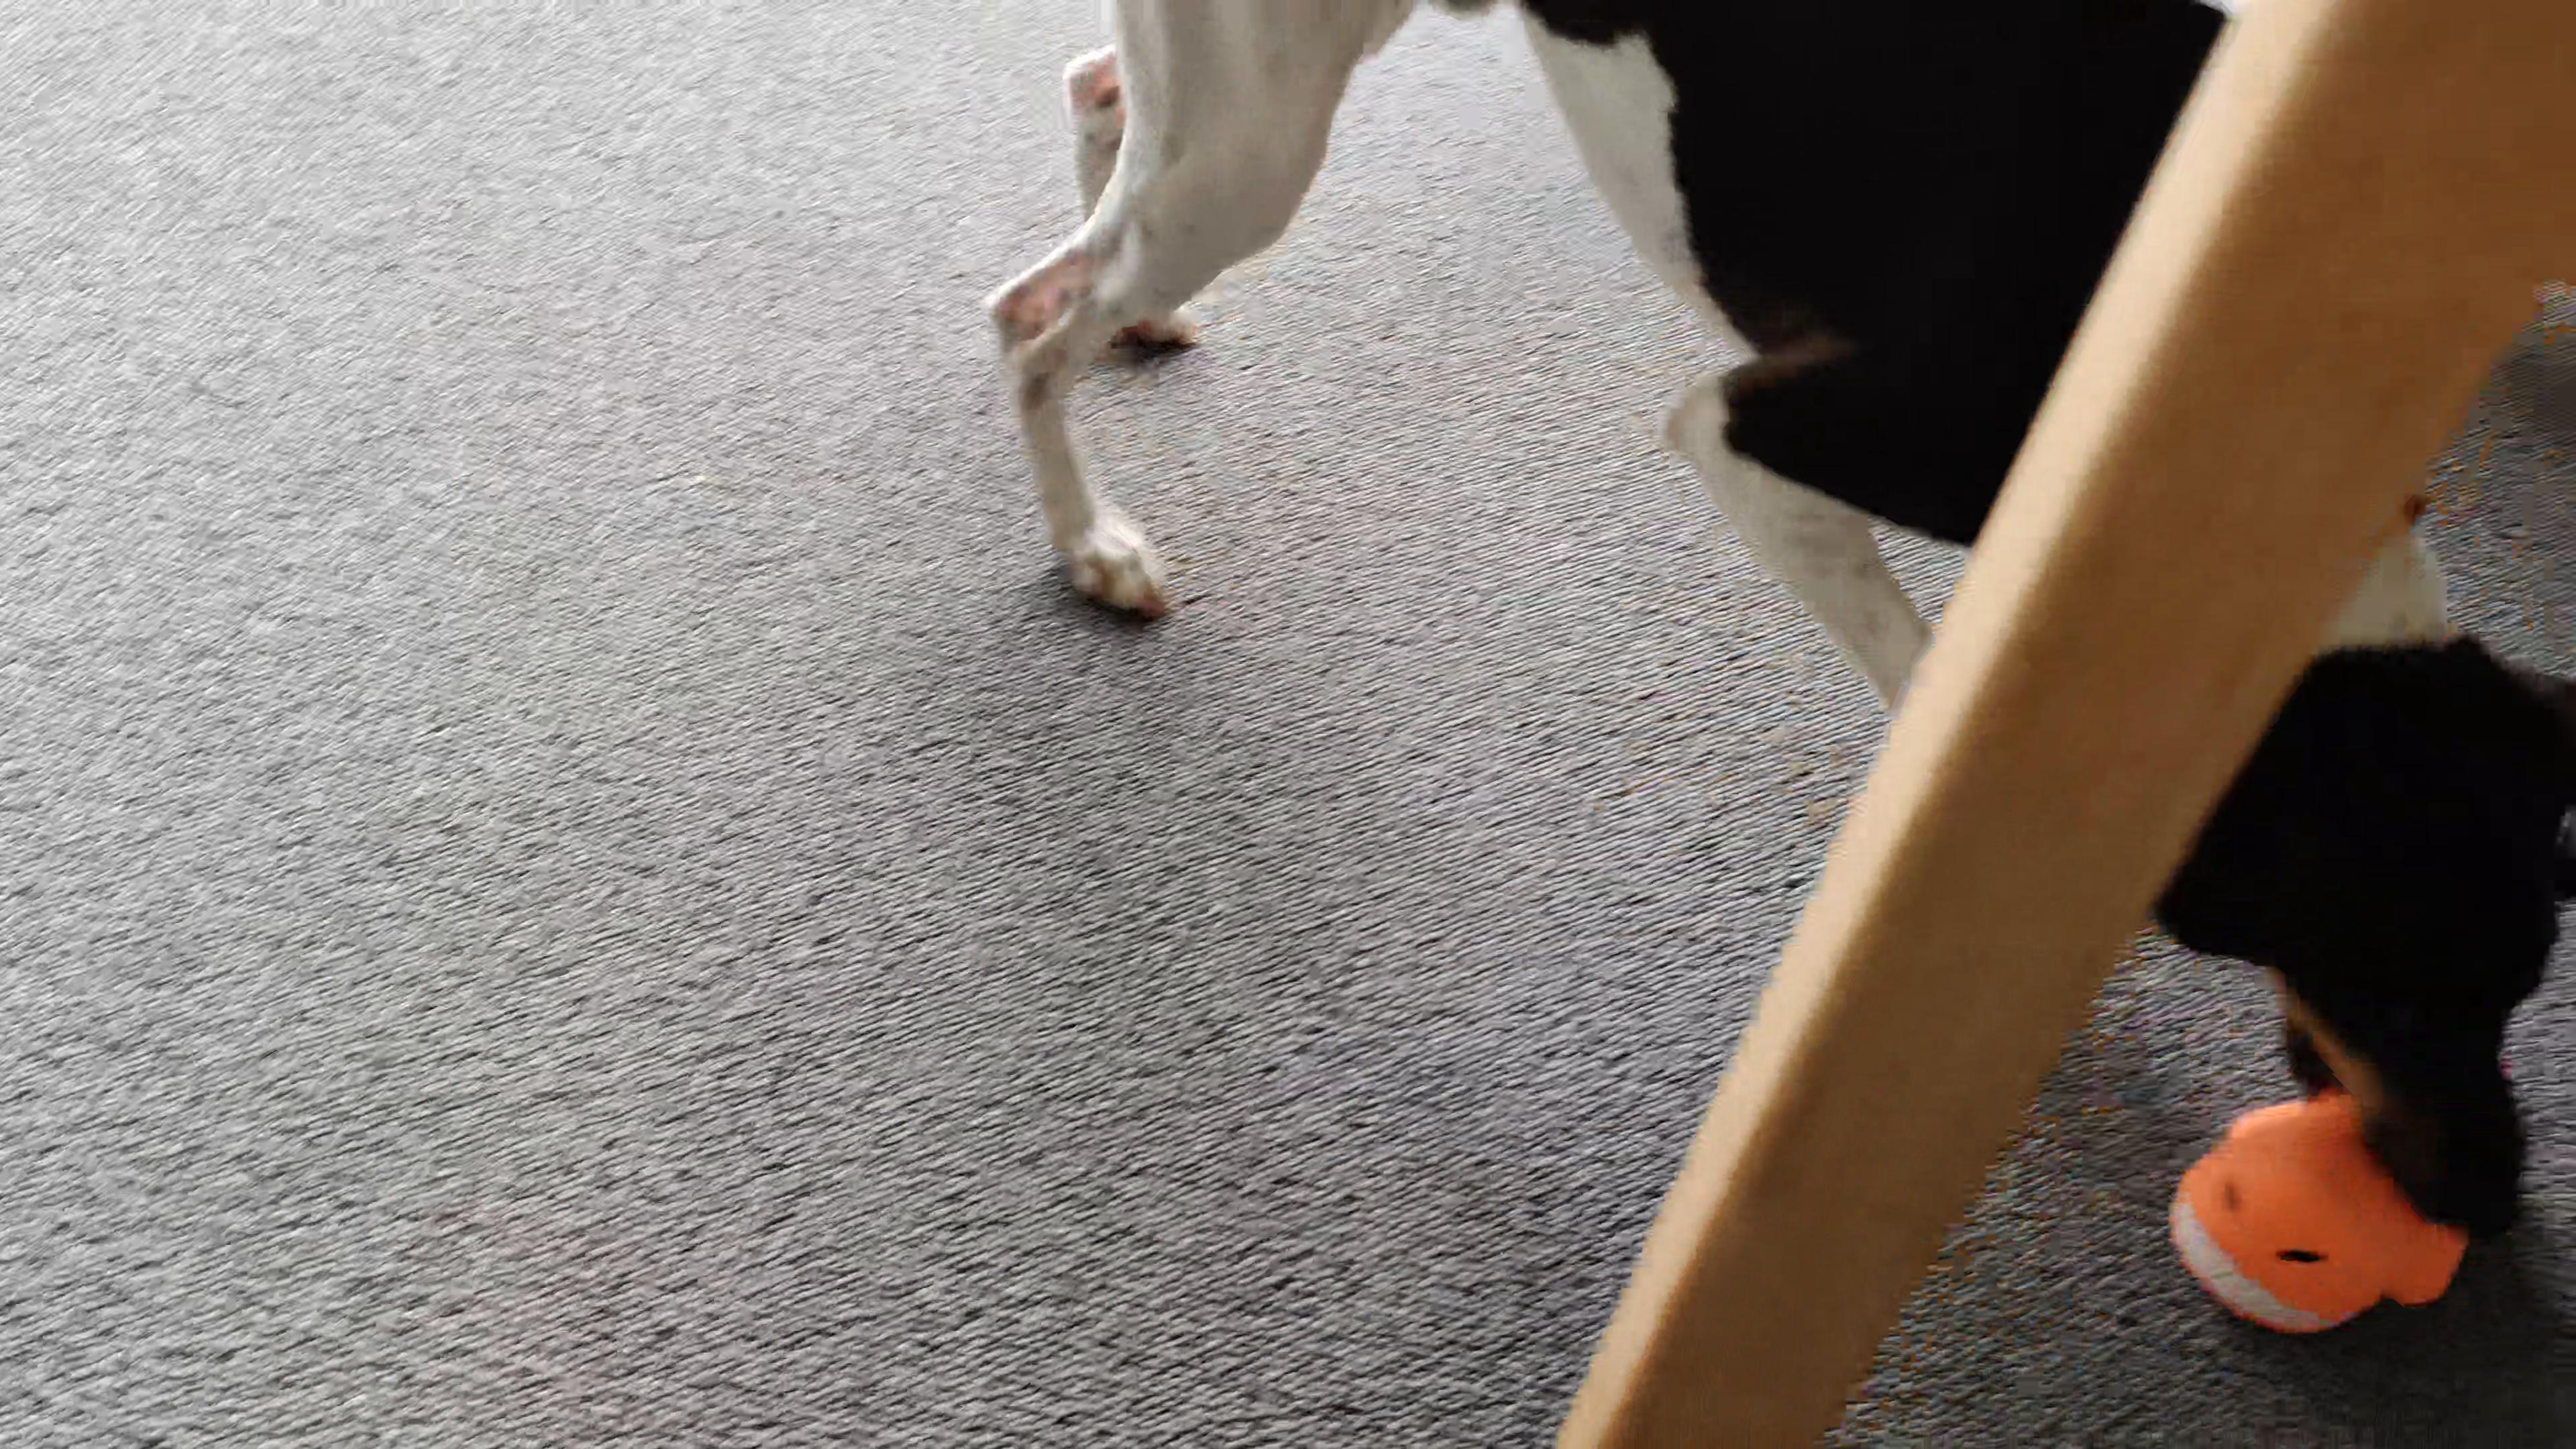Dog: (970, 0, 2576, 1244)
